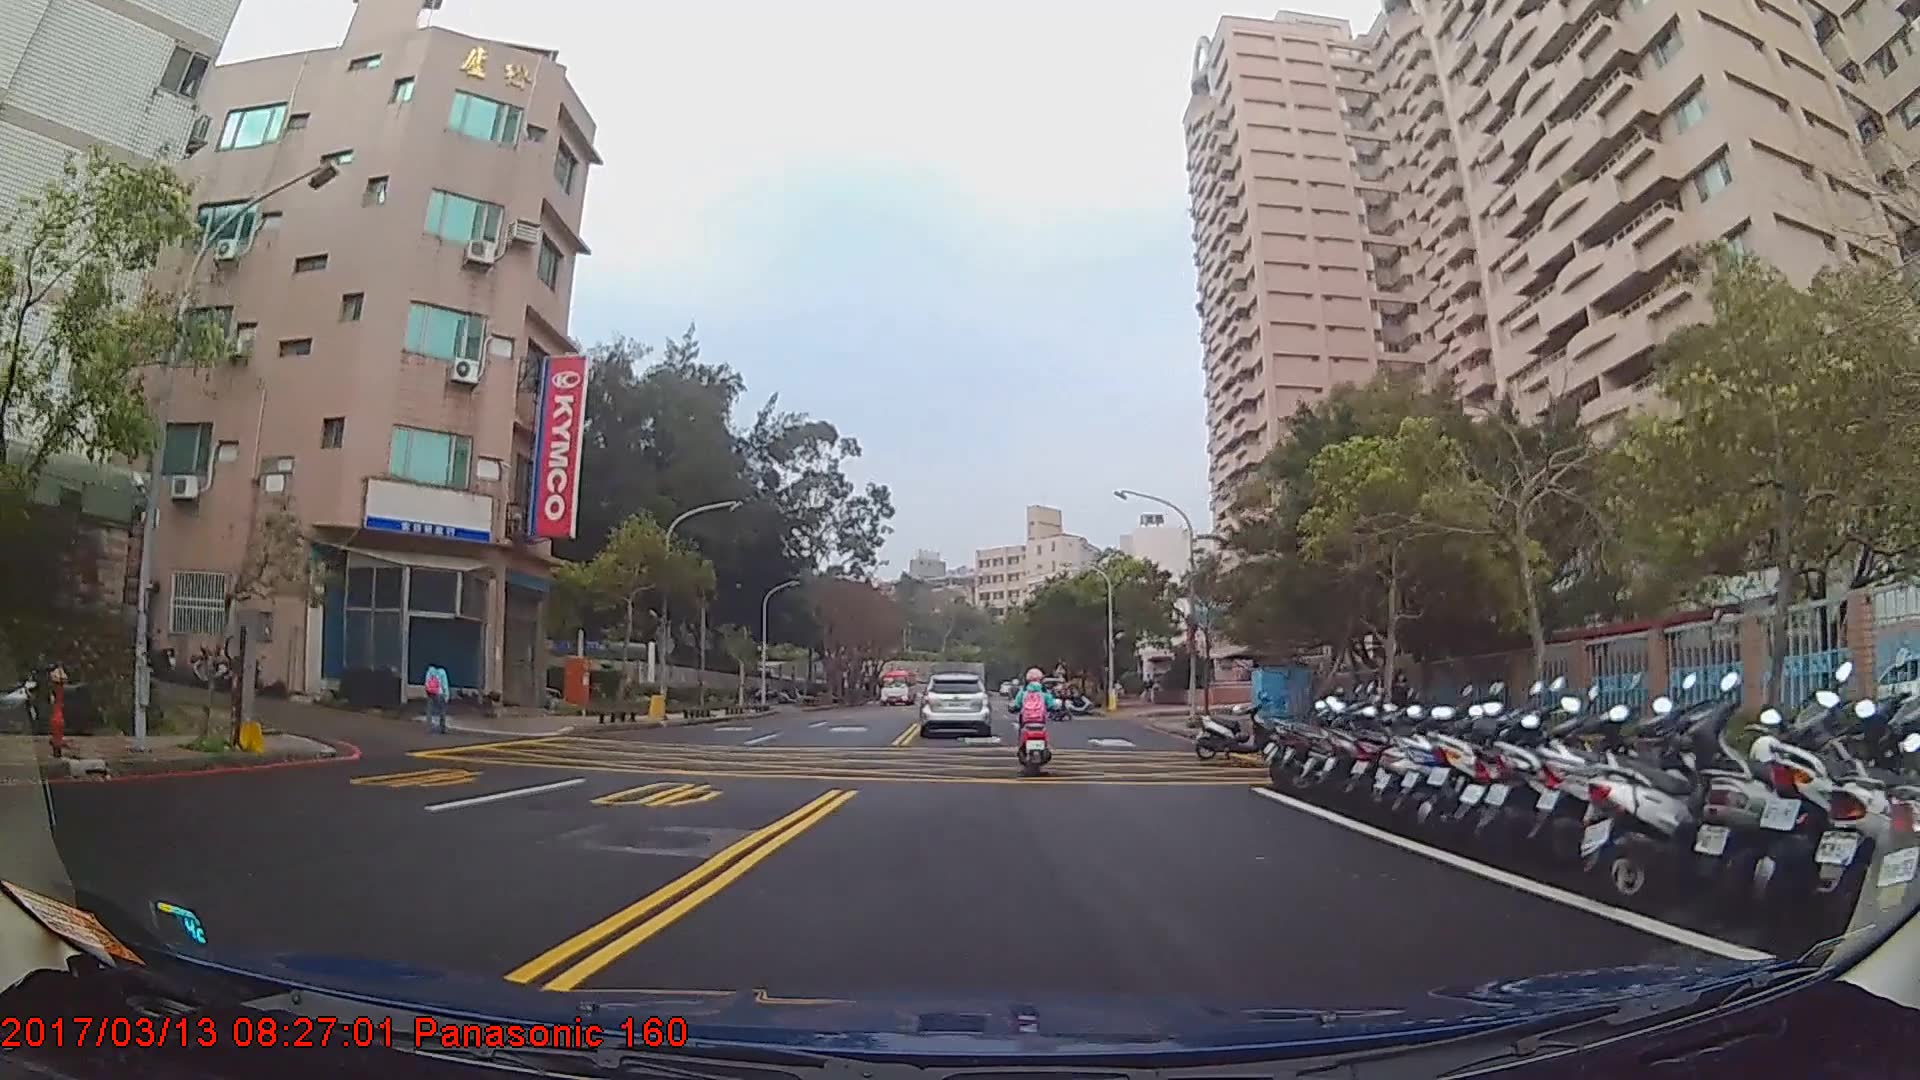pedestrian: (424, 650, 451, 734)
rider: (1011, 664, 1060, 778)
vehicle: (919, 671, 990, 737), (876, 666, 917, 705)
